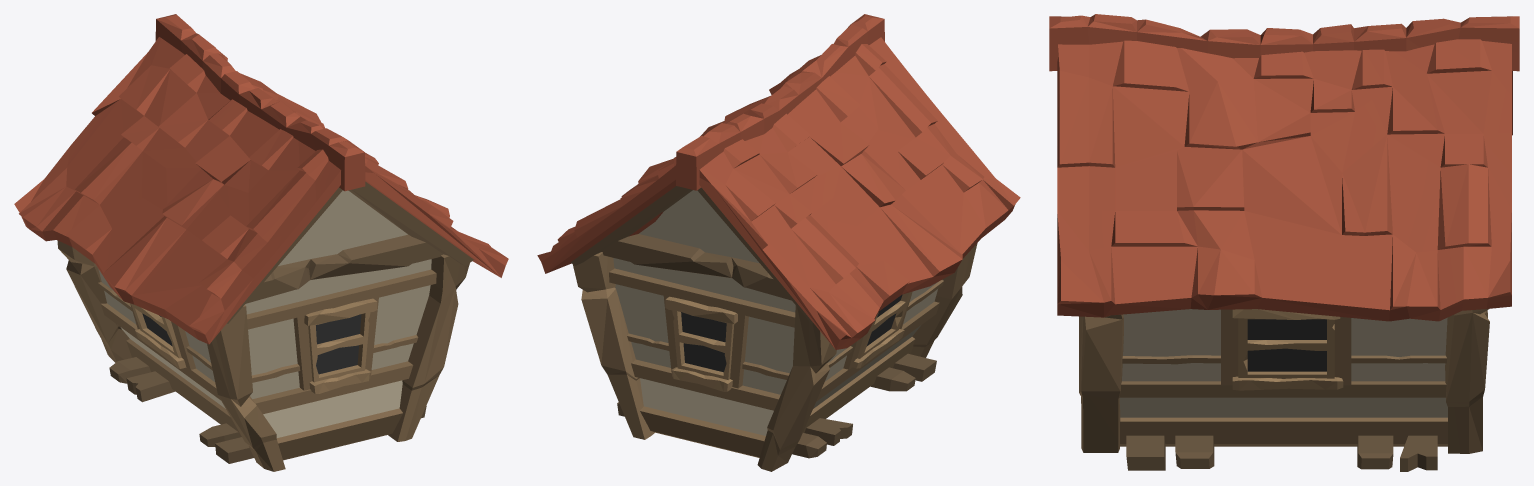
The model's file is SM_Bld_House_TopRoomSmall_01.glb.
The picture shows the model from 3 angles, left to right: view 1: azimuth 30°, elevation 25°; view 2: azimuth 150°, elevation 25°; view 3: azimuth 270°, elevation 25°; orthographic projection. The views are drawn at different scales.
Visible parts, largest first — view 1: SM_Bld_House_TopRoomSmall_01; view 2: SM_Bld_House_TopRoomSmall_01; view 3: SM_Bld_House_TopRoomSmall_01.
Part boxes in pixels (x1,y1,x2,y2): SM_Bld_House_TopRoomSmall_01: (14, 14, 508, 471); SM_Bld_House_TopRoomSmall_01: (537, 14, 1020, 471); SM_Bld_House_TopRoomSmall_01: (1049, 14, 1519, 471).
Size of the model in its own units: 4.68 by 4.29 by 4.67.
1 material, 1 textured.
